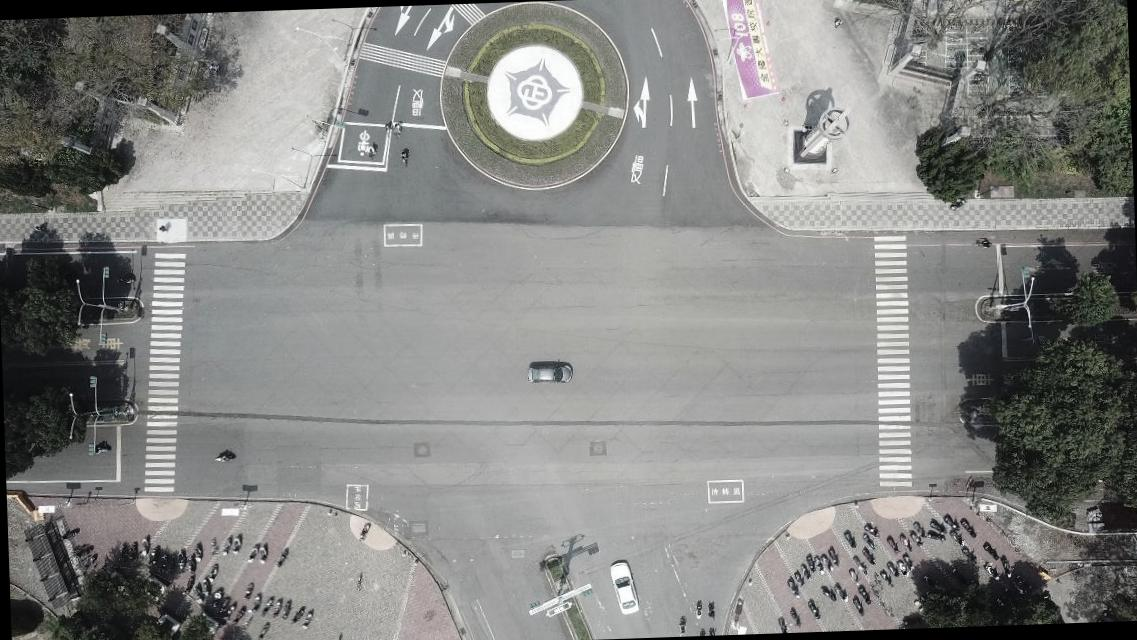vehicle: (608, 558, 640, 616), (526, 360, 574, 384)
